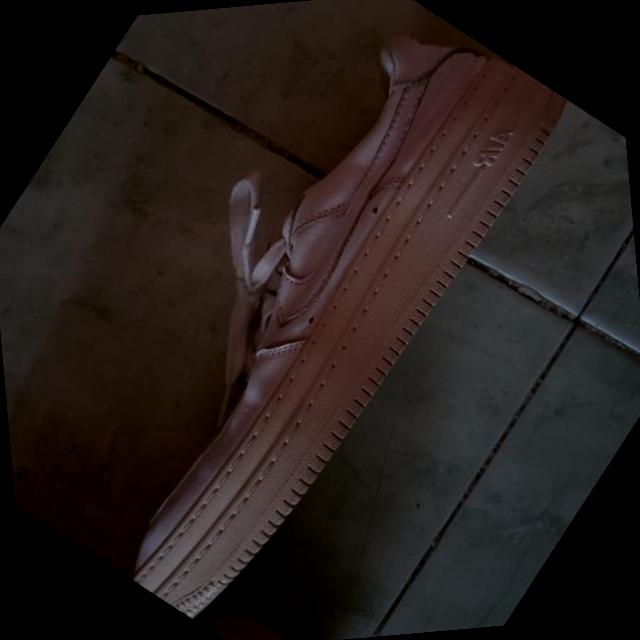nike_fake_airforce: (21, 0, 617, 640)
